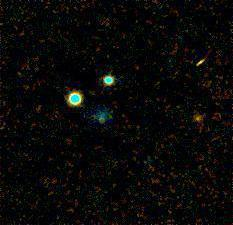star: (183, 104, 213, 134)
